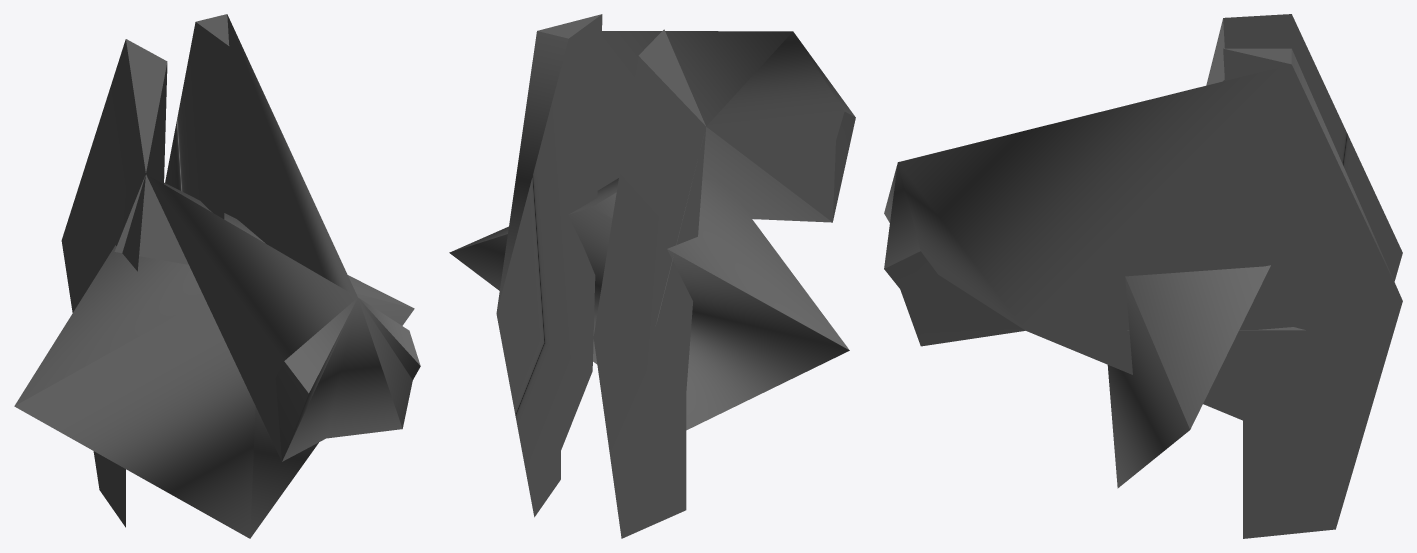
Rendered from tower-POLY_REDUCED.fbx.
3 renders of one model, left to right at view 1: azimuth 30°, elevation 25°; view 2: azimuth 150°, elevation 25°; view 3: azimuth 270°, elevation 25°, orthographic.
Parts seen in each view (by area): view 1: tower_POLY_REDUCED; view 2: tower_POLY_REDUCED; view 3: tower_POLY_REDUCED.
Part boxes in pixels (x1=…): tower_POLY_REDUCED: x1=14, y1=14, x2=420, y2=538; tower_POLY_REDUCED: x1=449, y1=14, x2=855, y2=538; tower_POLY_REDUCED: x1=884, y1=14, x2=1402, y2=538.
Bounding box in the file's own units: 108 × 120 × 119.
